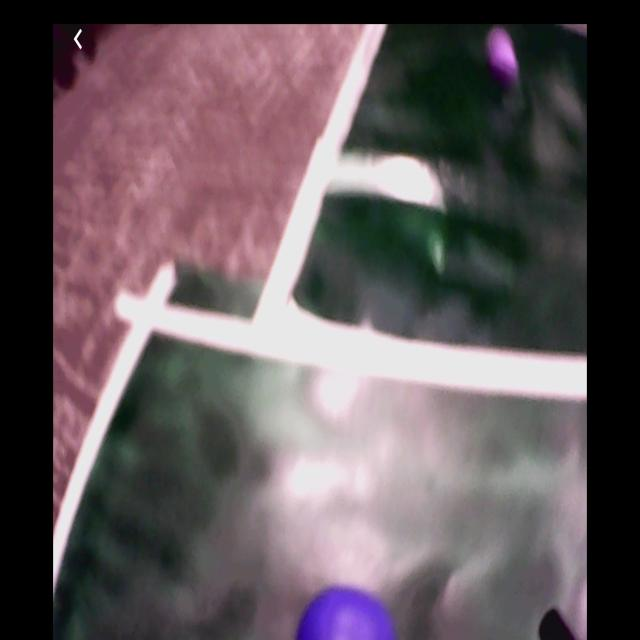ball: (298, 589, 396, 640), (492, 47, 520, 86)
